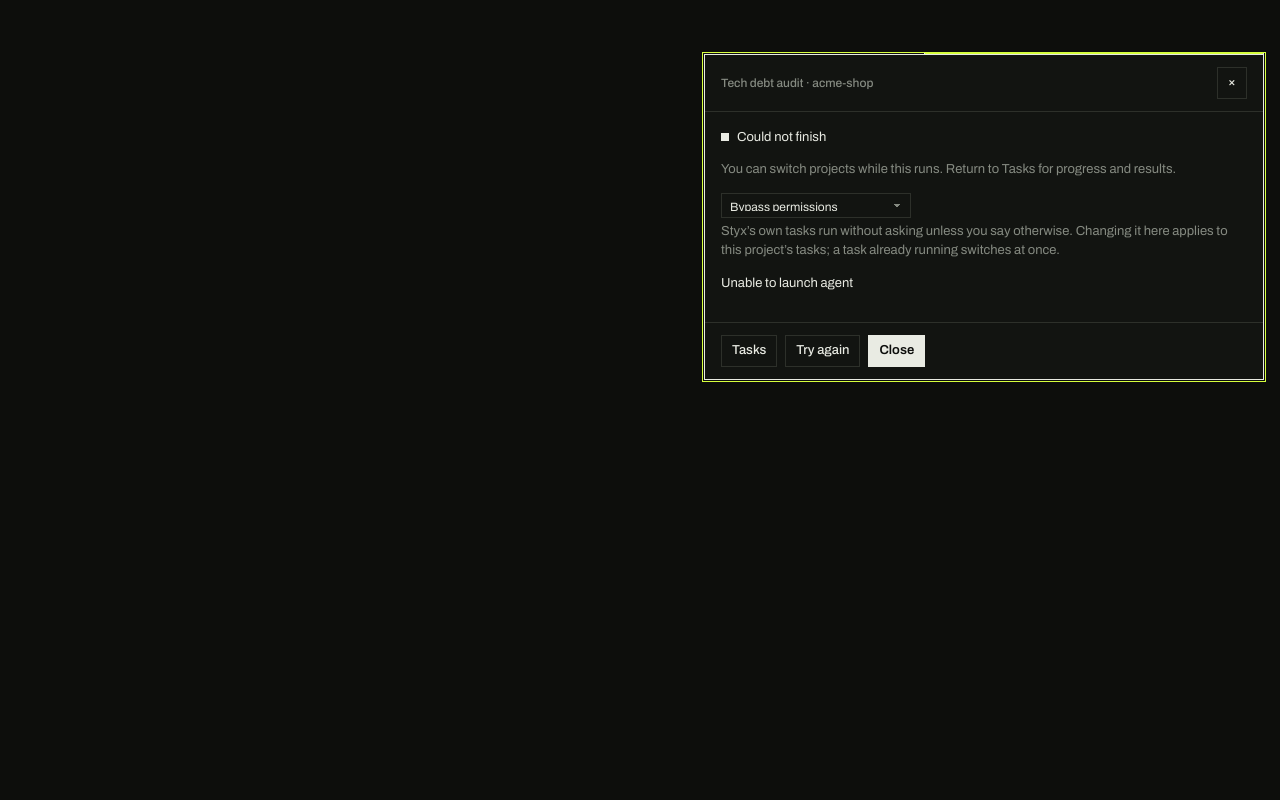
background tasks › shows failed startup with retry, and does not show the previous result while retrying
Expected: the dialog shows "Unable to launch agent", x1=721 y1=276 x2=853 y2=290
What coordinates should you click on to do the following:
click the button "Try again"
I would click on:
 (823, 351)
Its box is x1=785 y1=335 x2=860 y2=366.
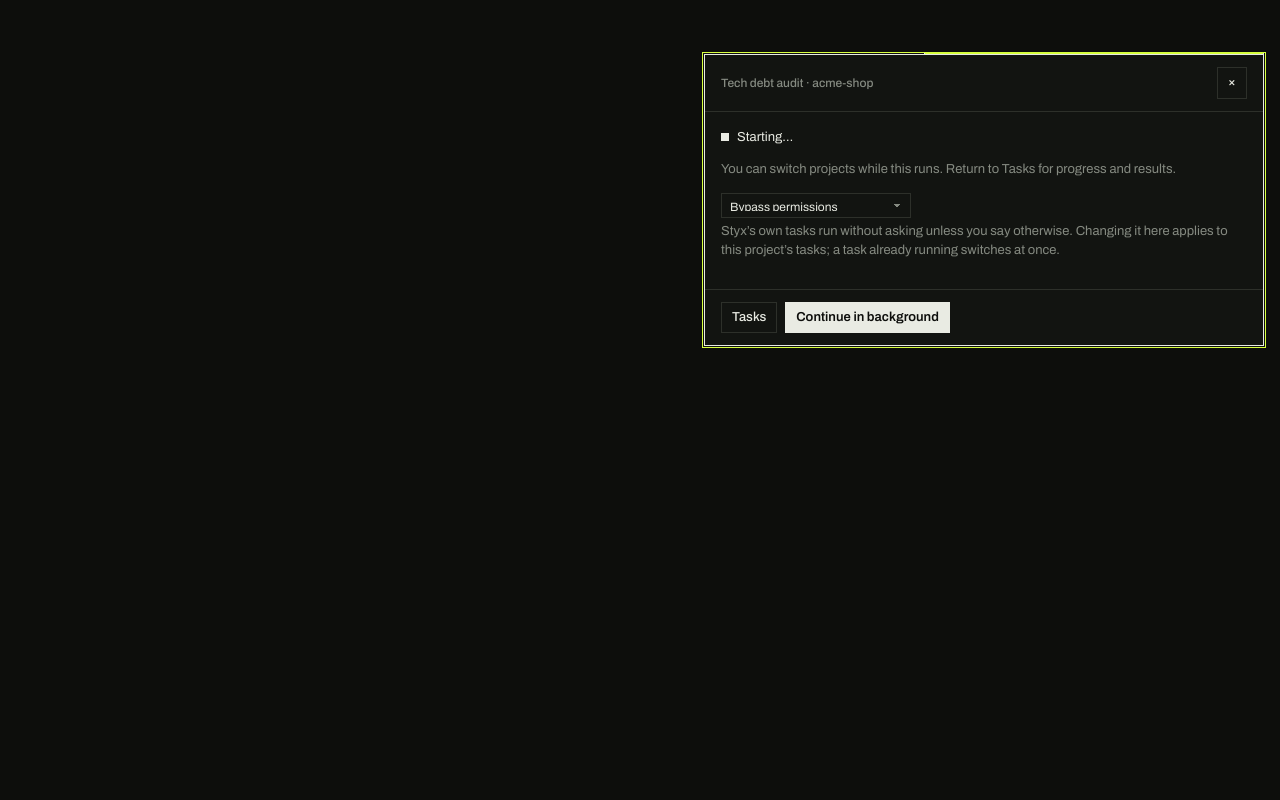
Result: the message reads "Starting…" at x1=737 y1=130 x2=793 y2=144
